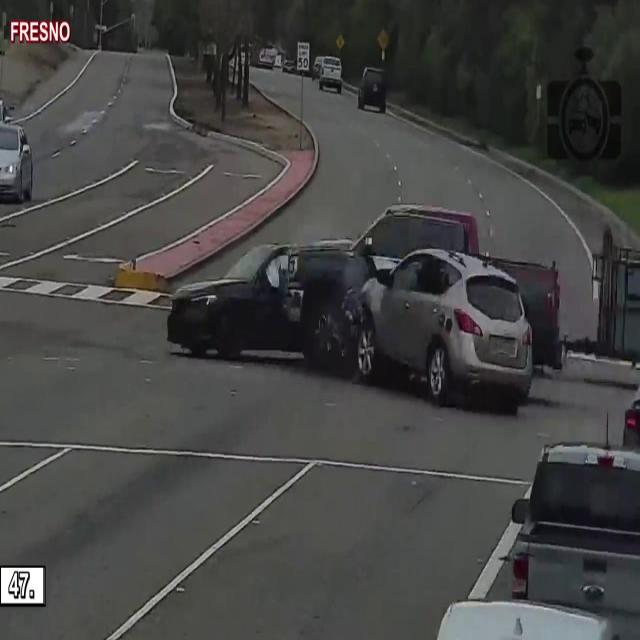accident: (160, 185, 534, 422)
